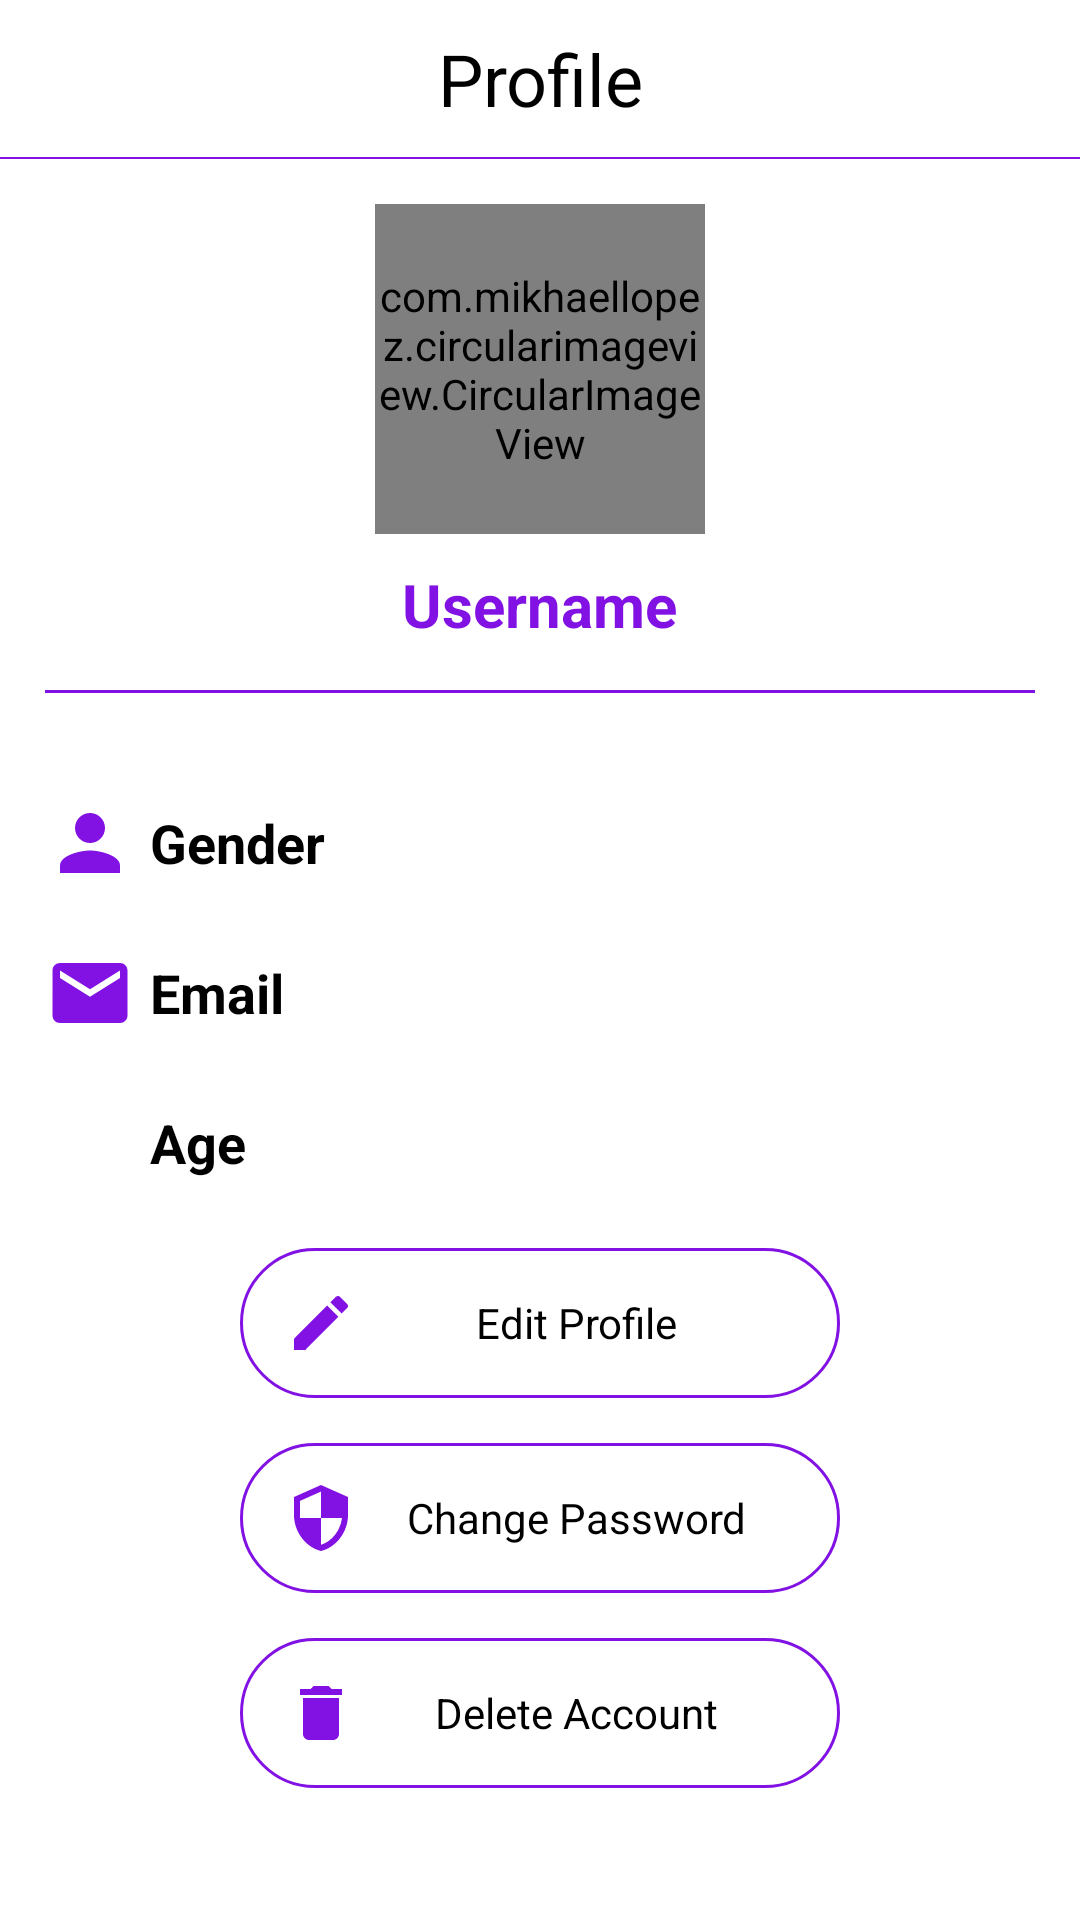

Icon click points for this 1080 x 1920 phone screenshot, format [x,y]:
person: [90,843]
